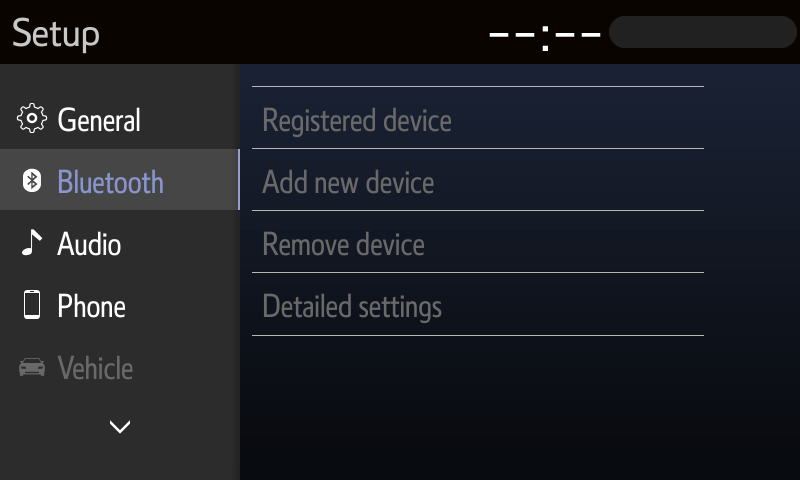touchPart: (13, 282, 142, 330), (12, 96, 147, 138), (13, 220, 128, 262), (86, 410, 154, 448)
untouchPart: (240, 266, 710, 343), (248, 80, 708, 154), (247, 205, 710, 278), (248, 142, 705, 215), (1, 147, 237, 214), (477, 12, 798, 52), (6, 347, 142, 390), (6, 14, 102, 53)
